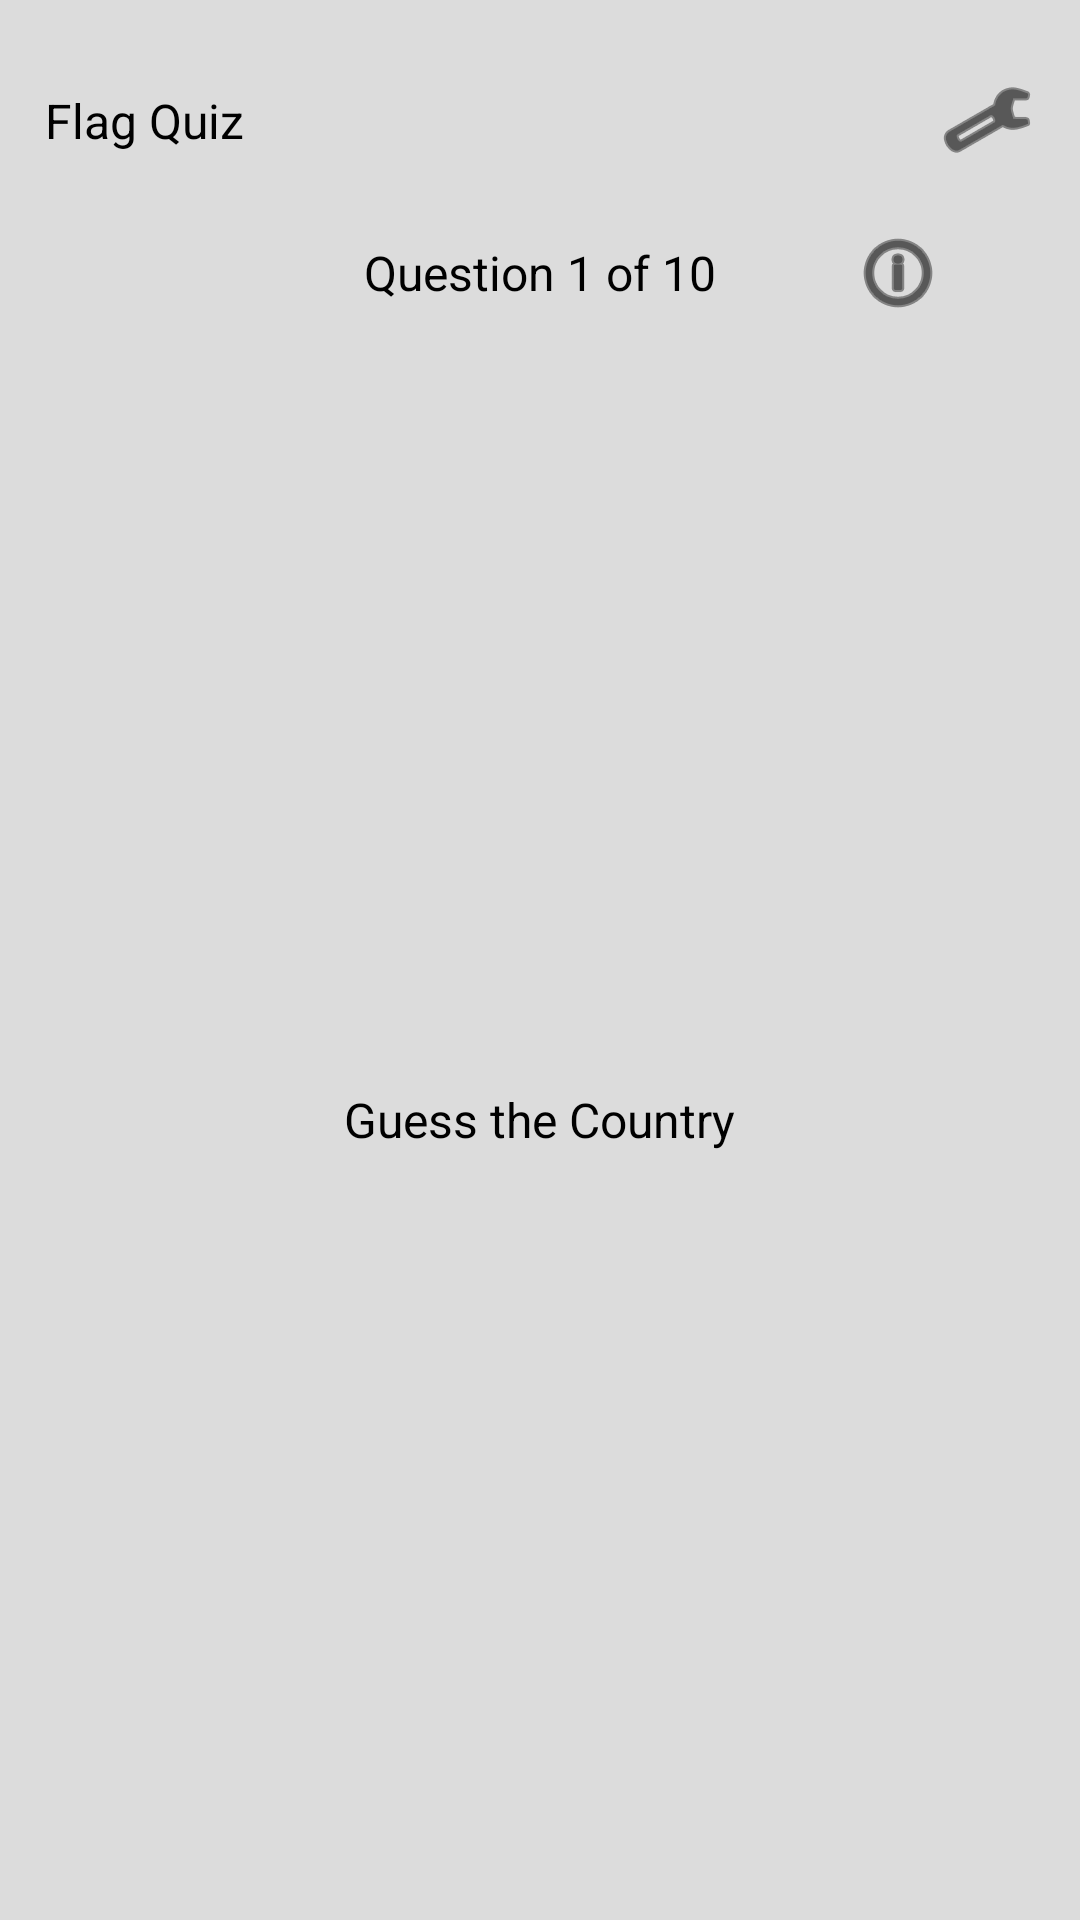

Point at icon controls on the screen. Image size 1080×1920, points as [x,y].
info details: [898,273]
preferences: [987,120]
